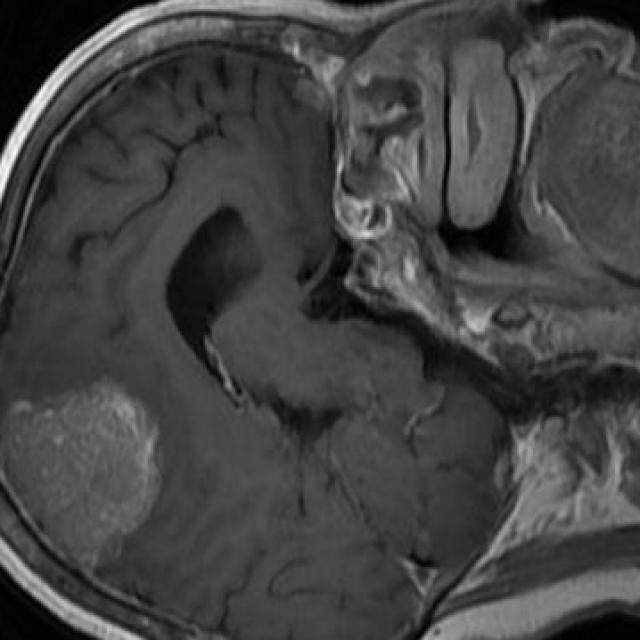meningioma: (5, 383, 159, 570)
